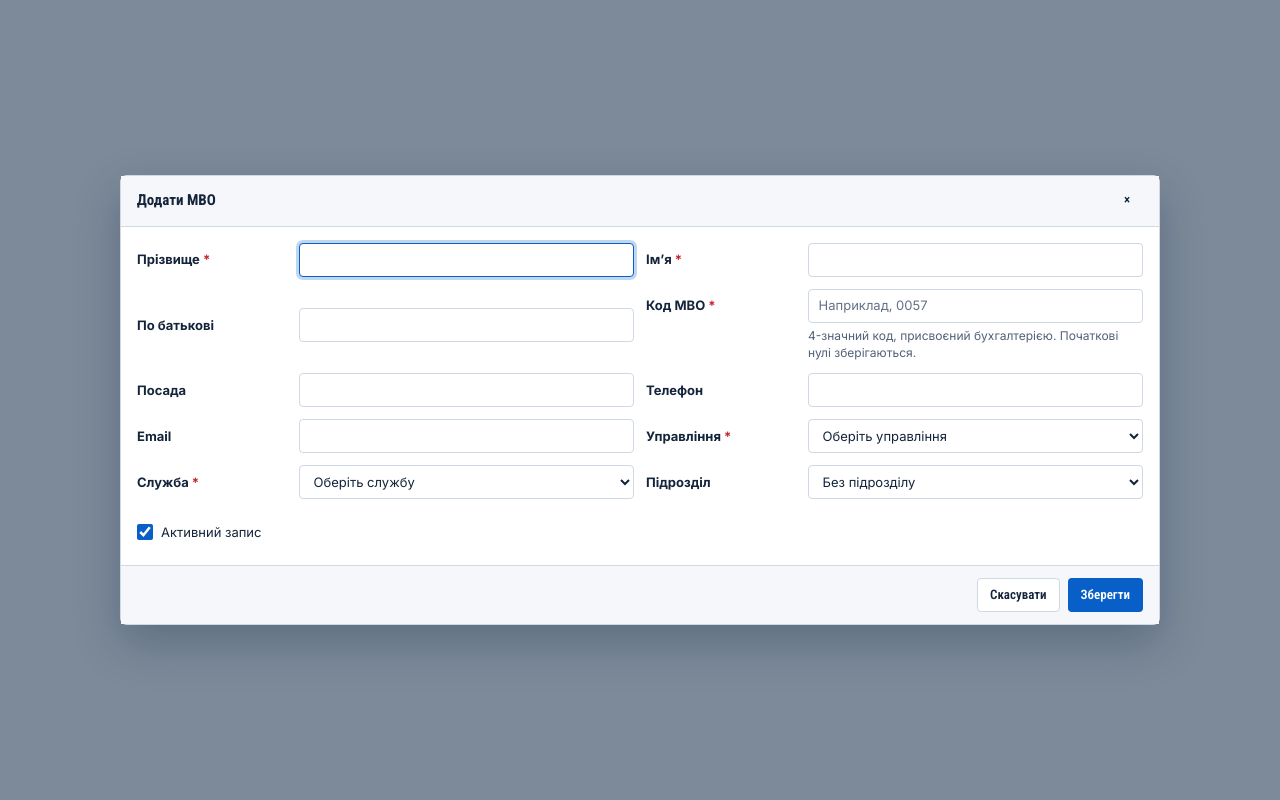
it: MVO accounting code form › shows format and duplicate errors before creating an MVO
This screenshot has width=1280, height=800.
In the field labelled "Код МВО *": (976, 306) [808,289,1143,323], type "57"
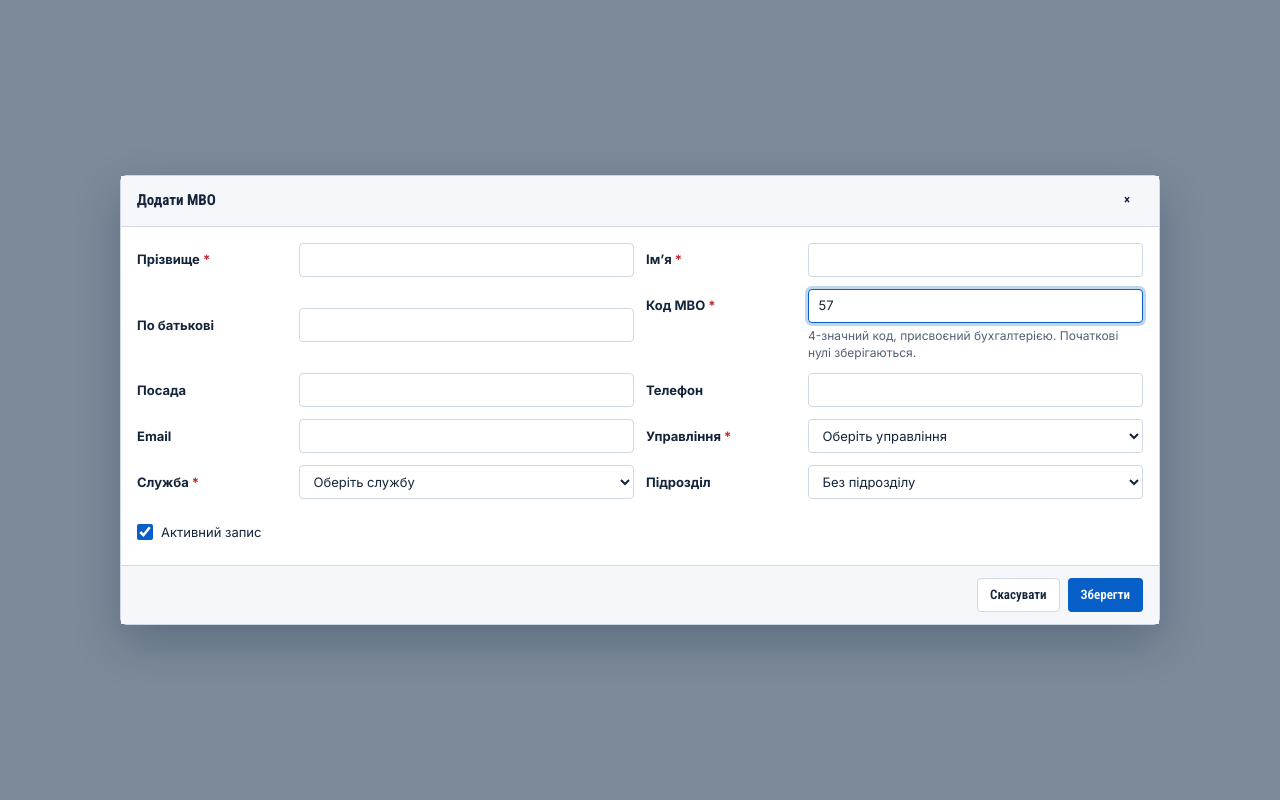
Leave the field labelled "Код МВО *", box [808,289,1143,323]
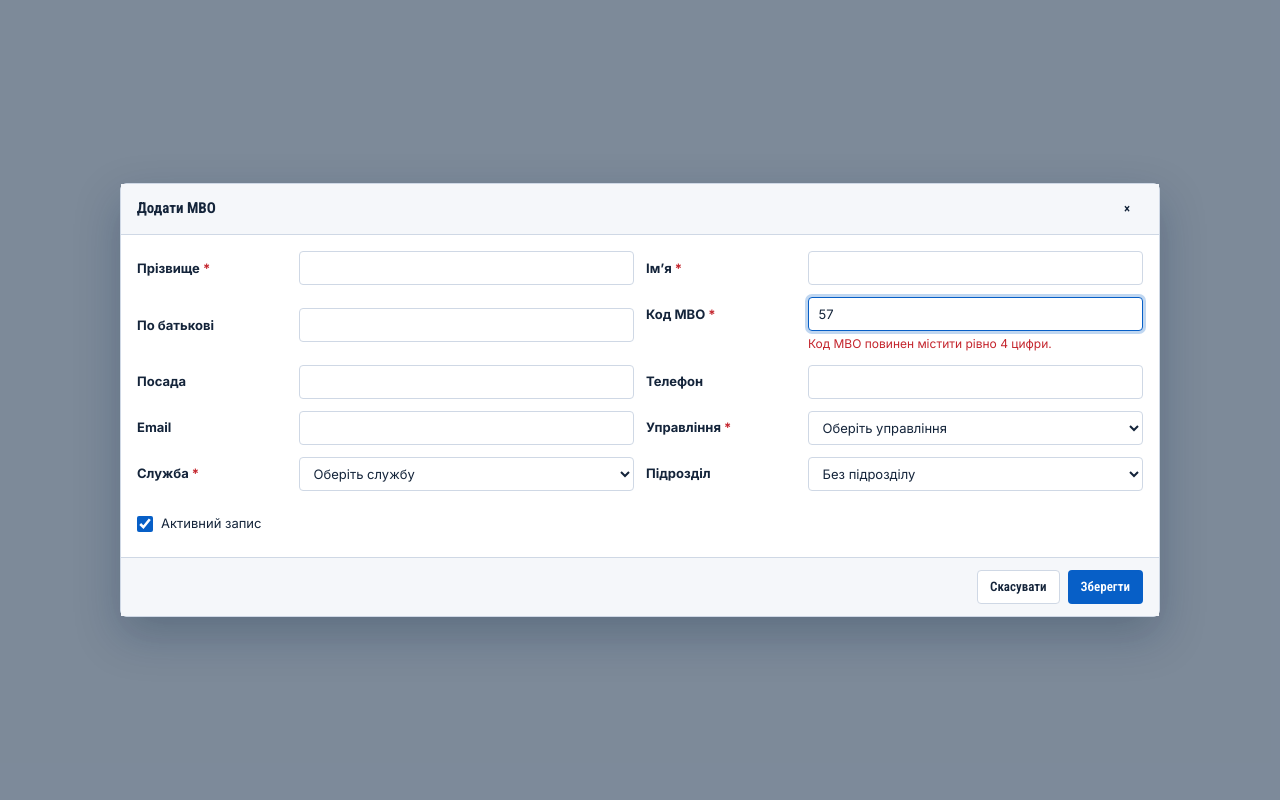
Expected: the text "Код МВО повинен містити рівно 4 цифри." is shown, [808,336,1052,351]
Replace the text in the field labelled "Код МВО *" with "0057": (976, 314) [808,297,1143,331]
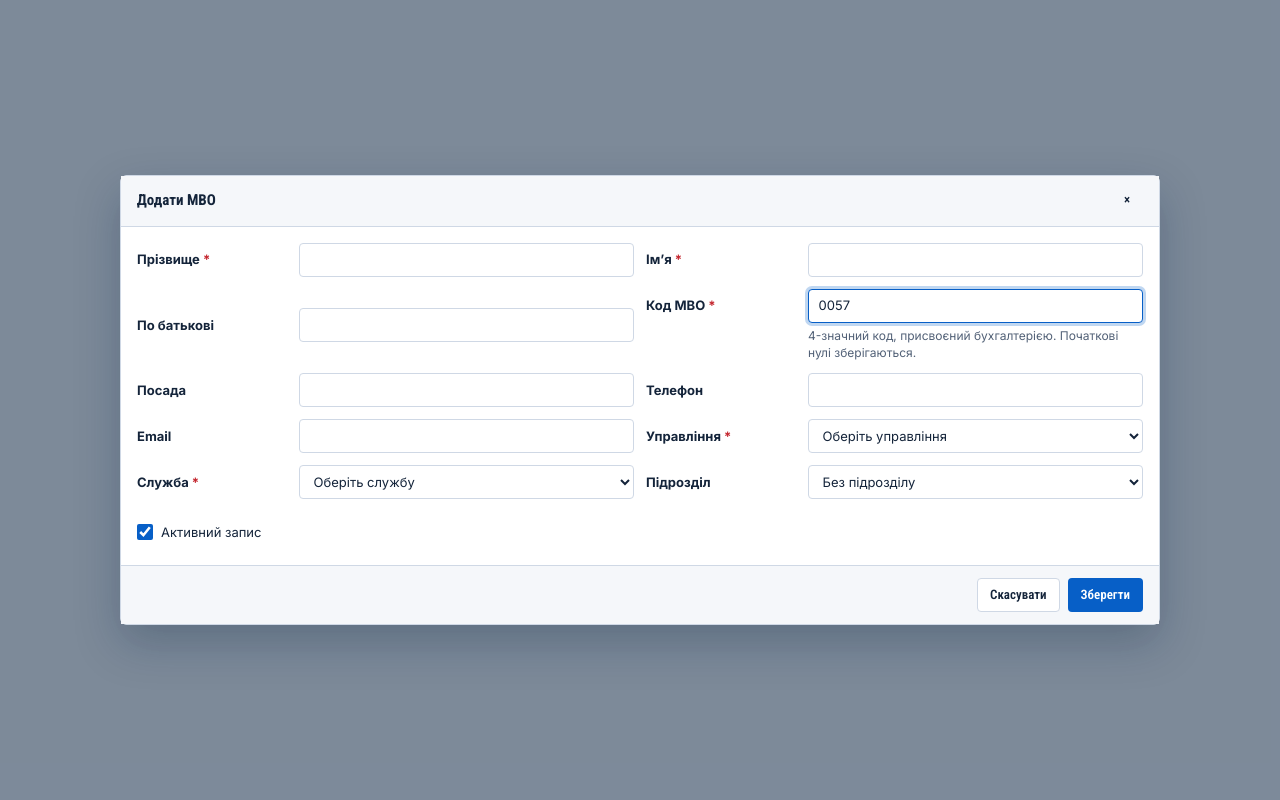
Submit the form, box [137,243,1143,549]
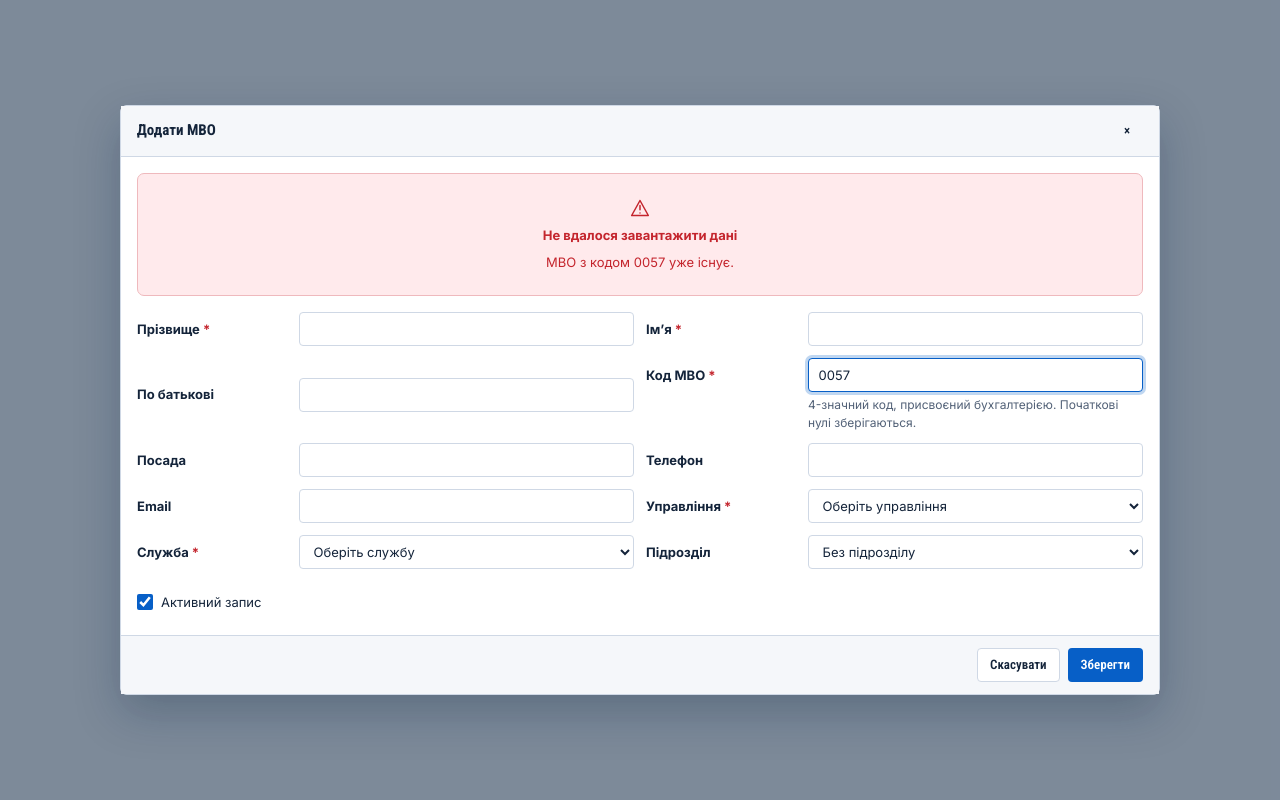
Expected: the text "МВО з кодом 0057 уже існує." is shown, [546,253,734,271]
